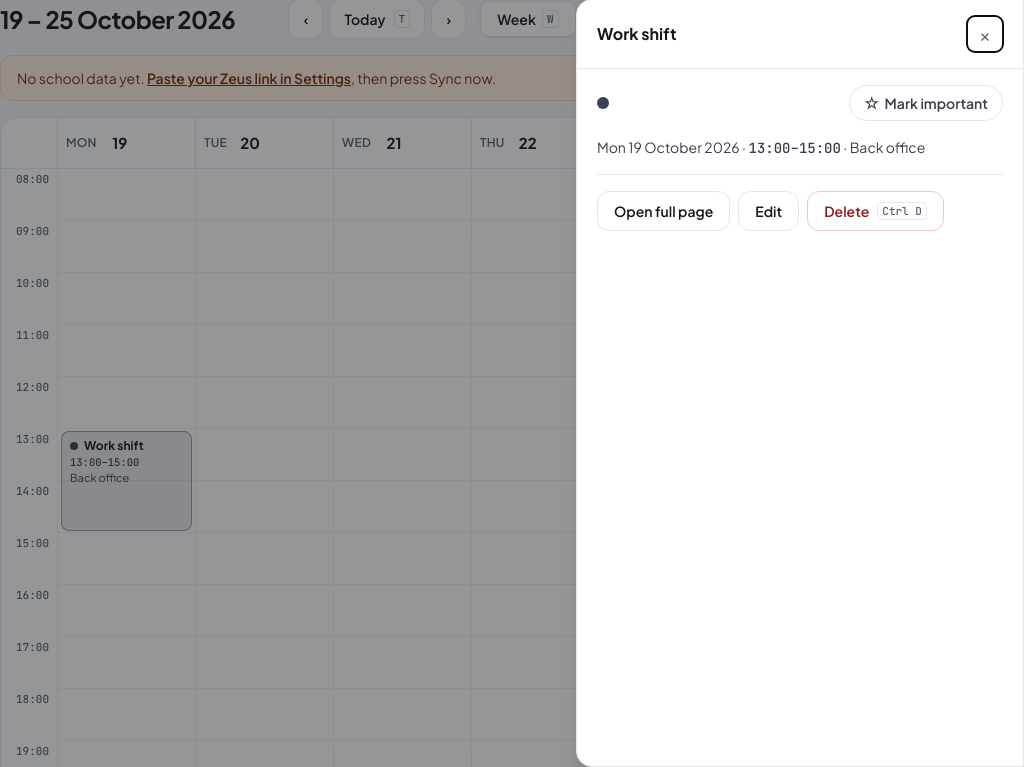
Test case: CalendarPage popups › confirmed delete removes the event
This screenshot has width=1024, height=767.
Click the button "Delete Ctrl D" at (876, 211), box left=807, top=191, right=944, bottom=231
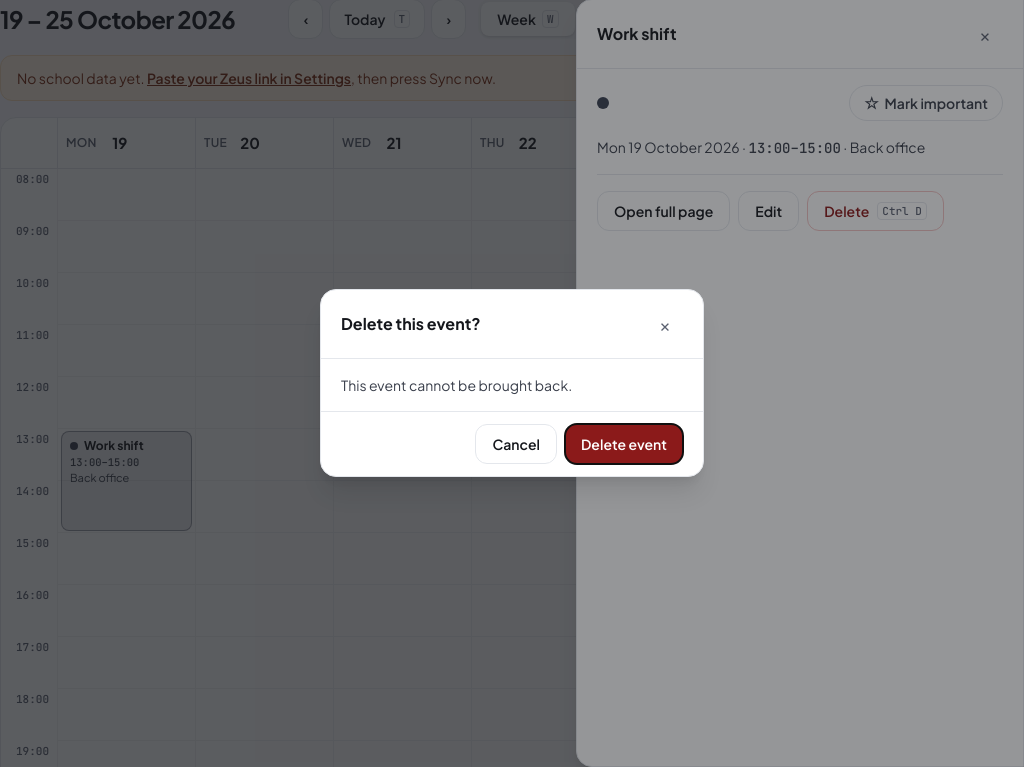
Click the button "Delete event" at (624, 444), box left=565, top=424, right=683, bottom=464
(page scrolled)
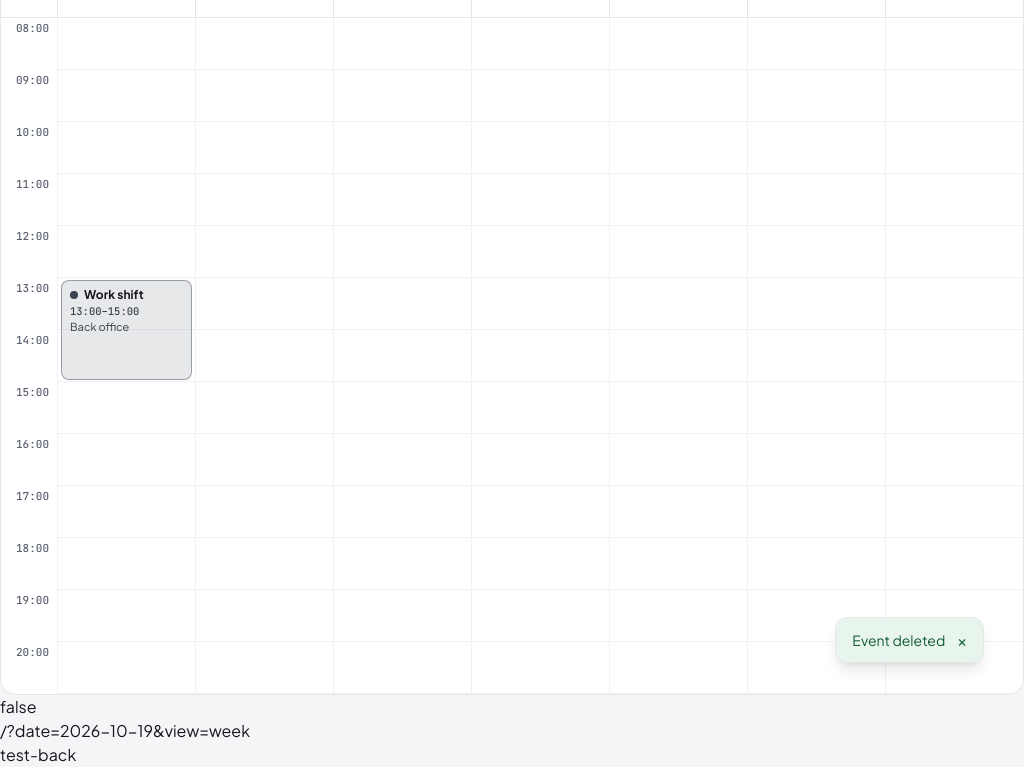
Expected: the text "Event deleted" is shown, left=852, top=630, right=945, bottom=650
Expected: the dialog is gone
Expected: the text with test id "where" no longer shows "event=", left=0, top=720, right=250, bottom=741
